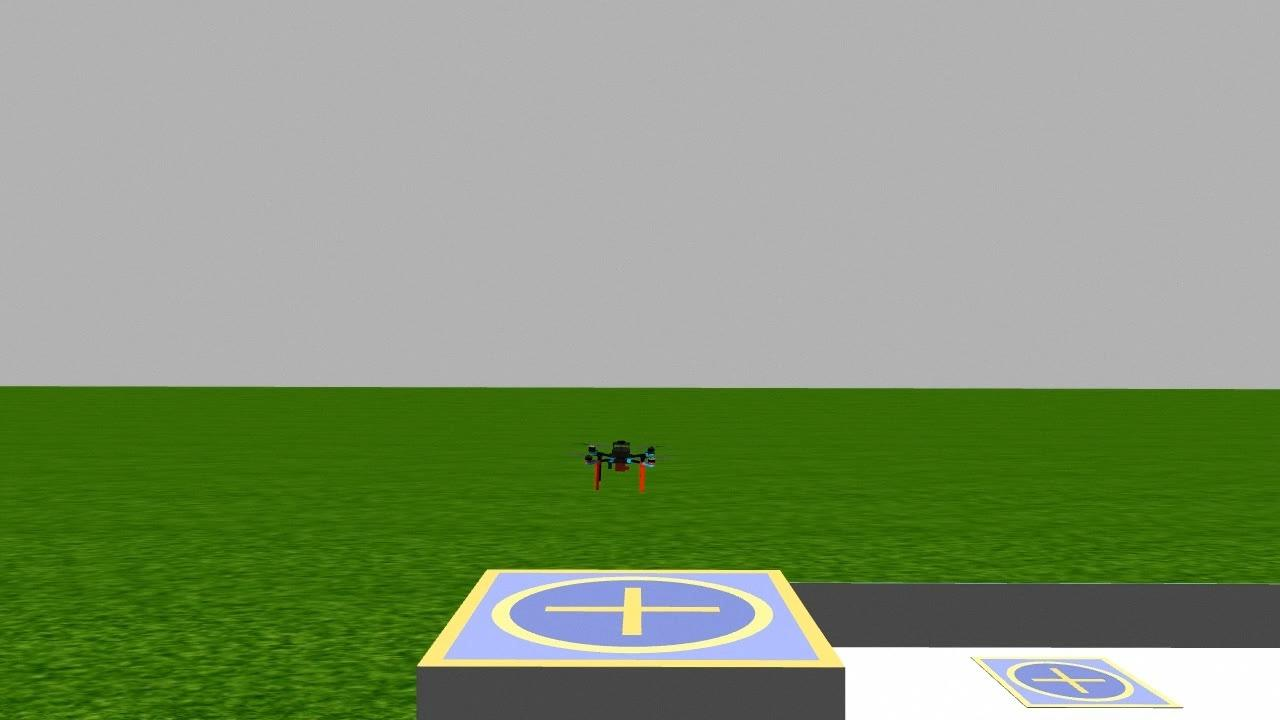UAV: (559, 422, 682, 494)
